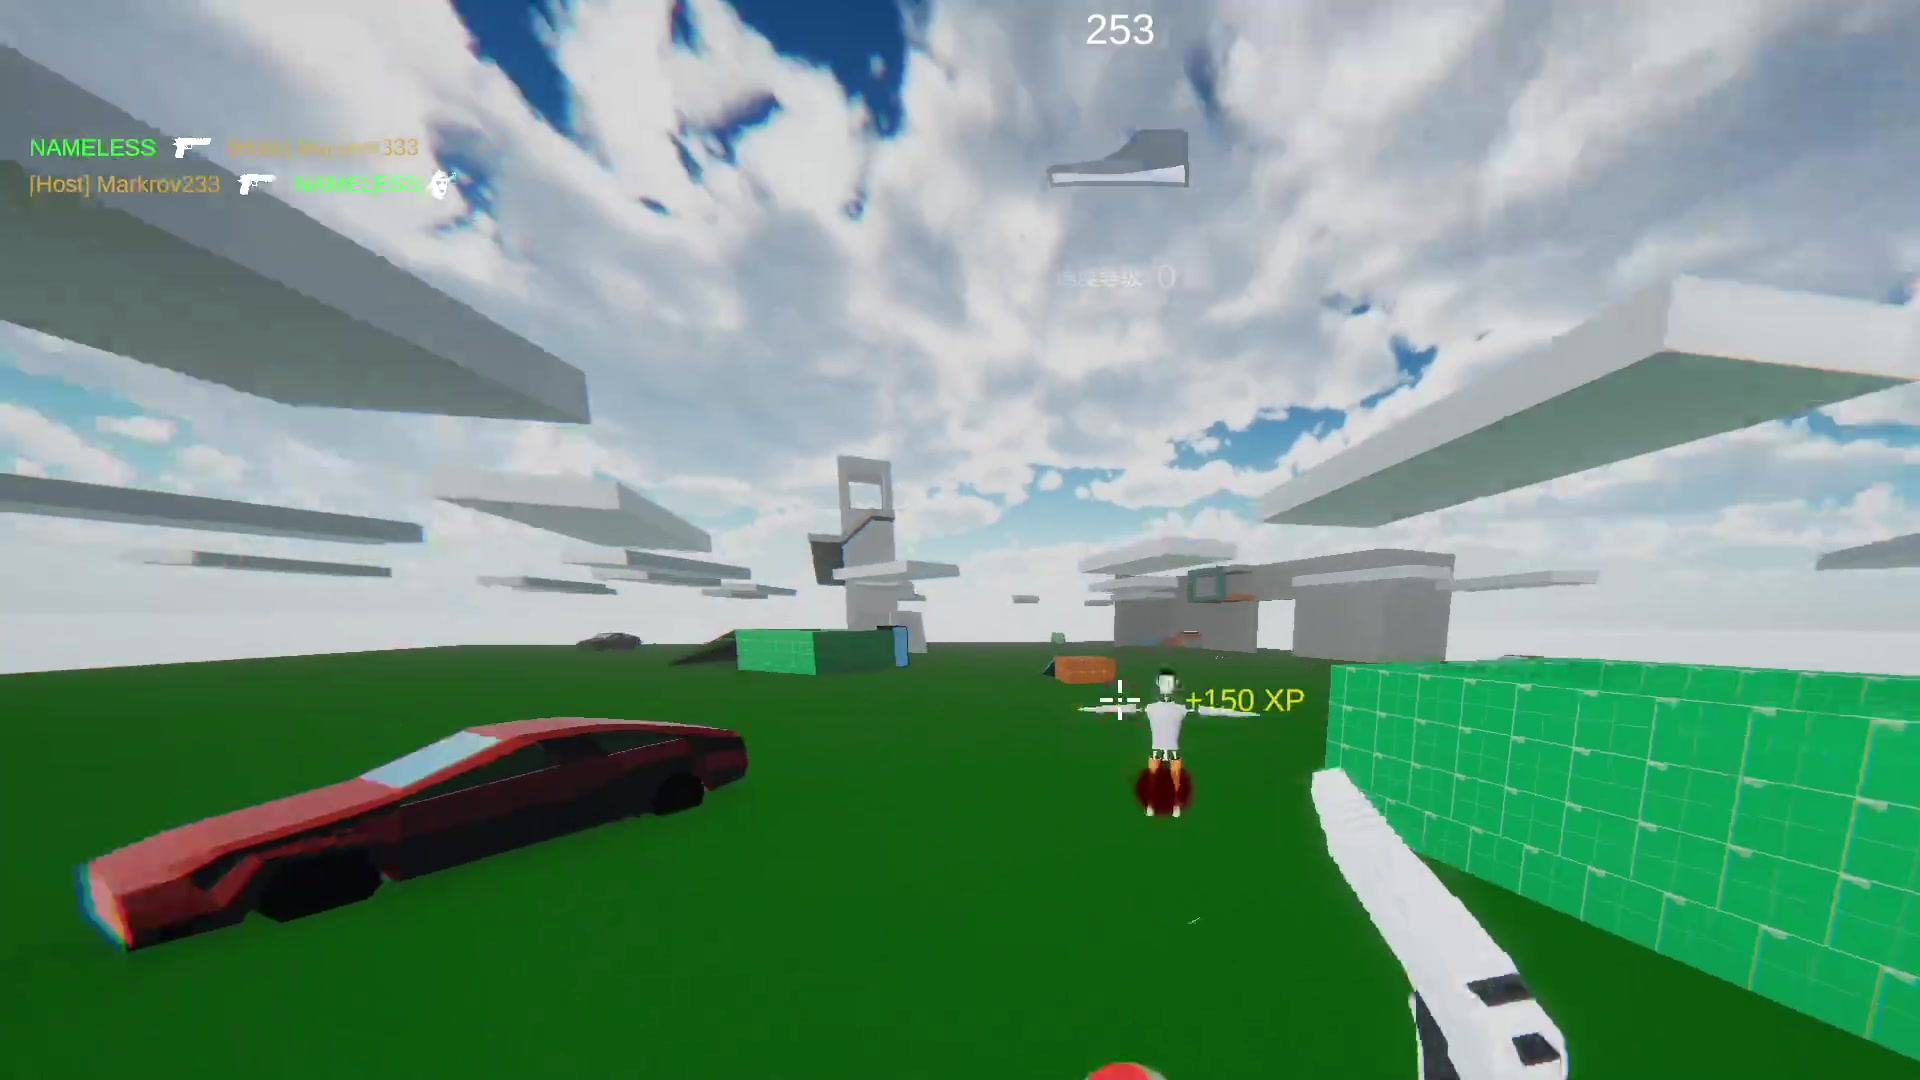died: (1091, 665, 1302, 825)
